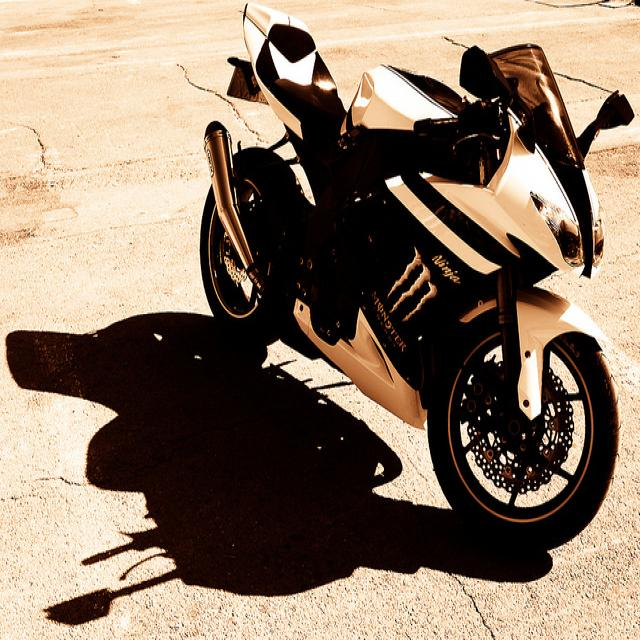motor: (197, 17, 638, 556)
